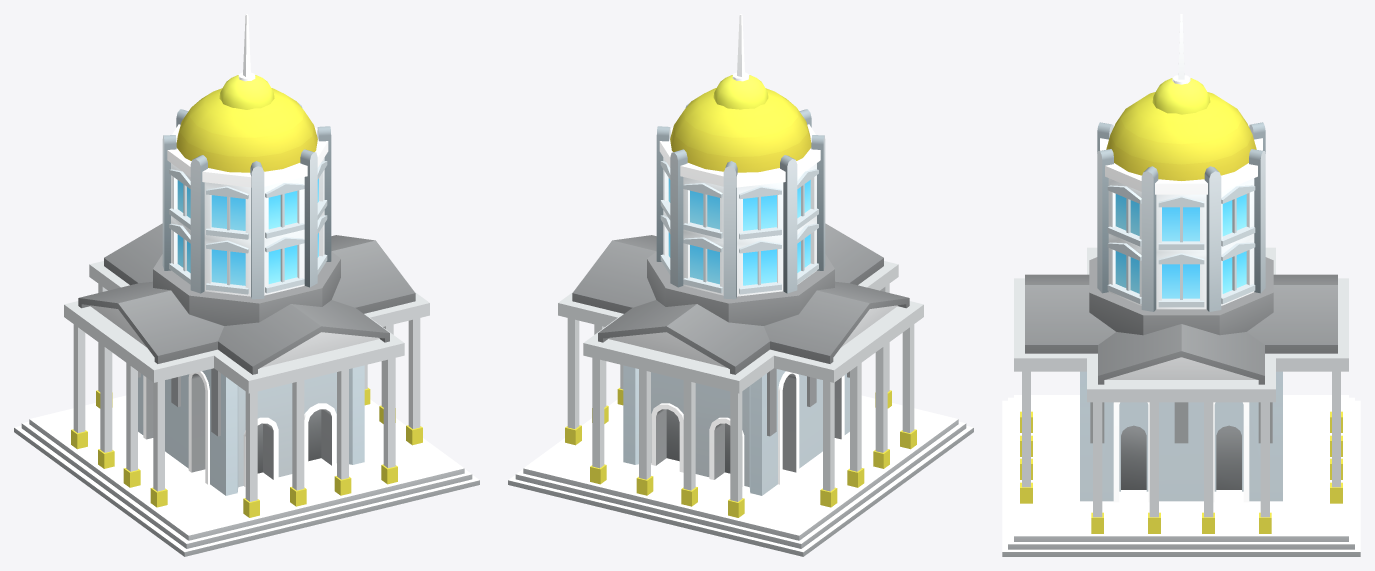
The model's file is Building_Temple_06.glb.
The picture shows the model from 3 angles, left to right: view 1: azimuth 30°, elevation 25°; view 2: azimuth 150°, elevation 25°; view 3: azimuth 270°, elevation 25°; orthographic projection. The views are drawn at different scales.
Visible parts, largest first — view 1: Building_Temple_06; view 2: Building_Temple_06; view 3: Building_Temple_06.
Part boxes in pixels (x1=…): Building_Temple_06: x1=14, y1=14, x2=479, y2=556; Building_Temple_06: x1=508, y1=14, x2=973, y2=556; Building_Temple_06: x1=1002, y1=14, x2=1360, y2=556.
Bounding box in the file's own units: 14.81 × 21.28 × 14.81.
Materials: 1 (1 with a texture image).
